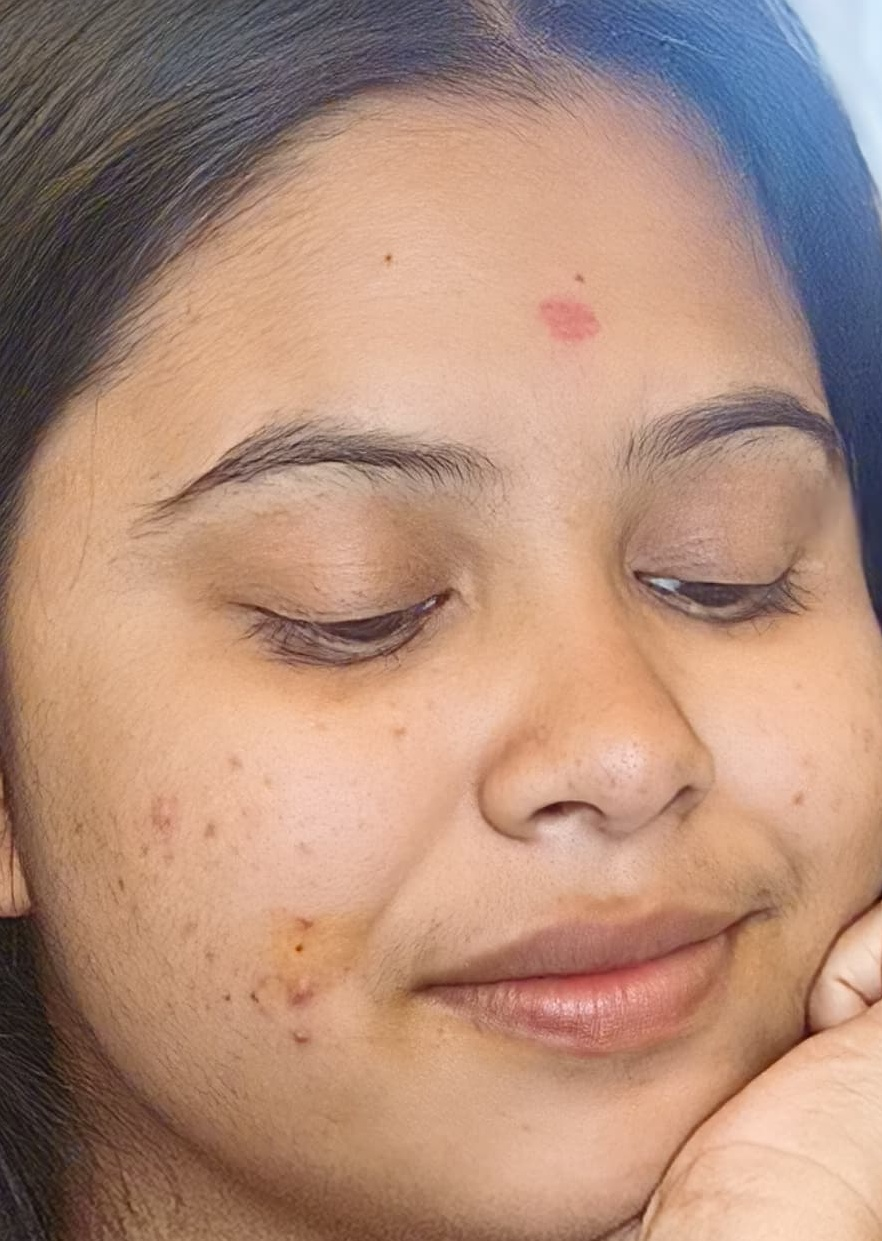papule: (281, 999, 351, 1069), (265, 958, 332, 1022)
